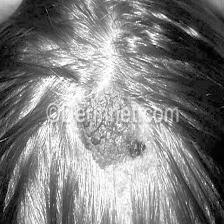Benign Marking or Mole: (78, 84, 141, 158)
